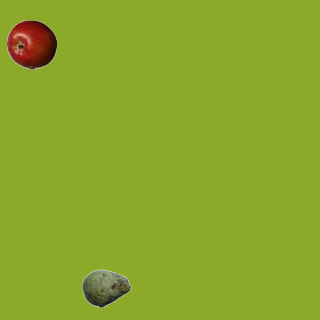Apple Braeburn: (6, 19, 56, 69)
Pear Stone: (81, 263, 131, 313)
